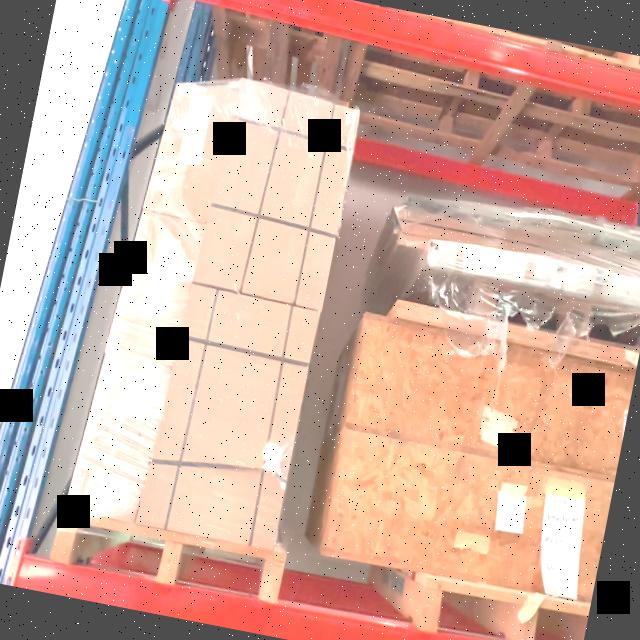box: (143, 286, 322, 552), (198, 84, 360, 306), (65, 350, 171, 522), (105, 209, 205, 365), (142, 81, 236, 226)
